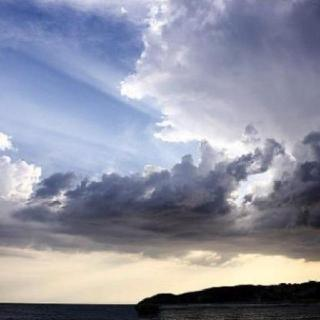Nimbostratus: (0, 0, 319, 267)
